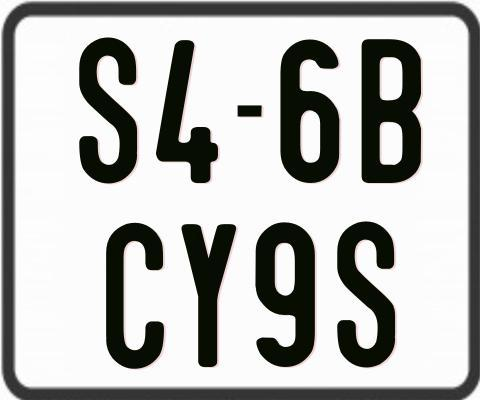4: (155, 37, 217, 181)
6: (280, 38, 343, 183)
9: (254, 221, 319, 369)
B: (359, 39, 422, 188)
C: (105, 222, 166, 368)
S: (77, 35, 141, 182), (334, 220, 396, 368)
Y: (182, 222, 240, 366)
